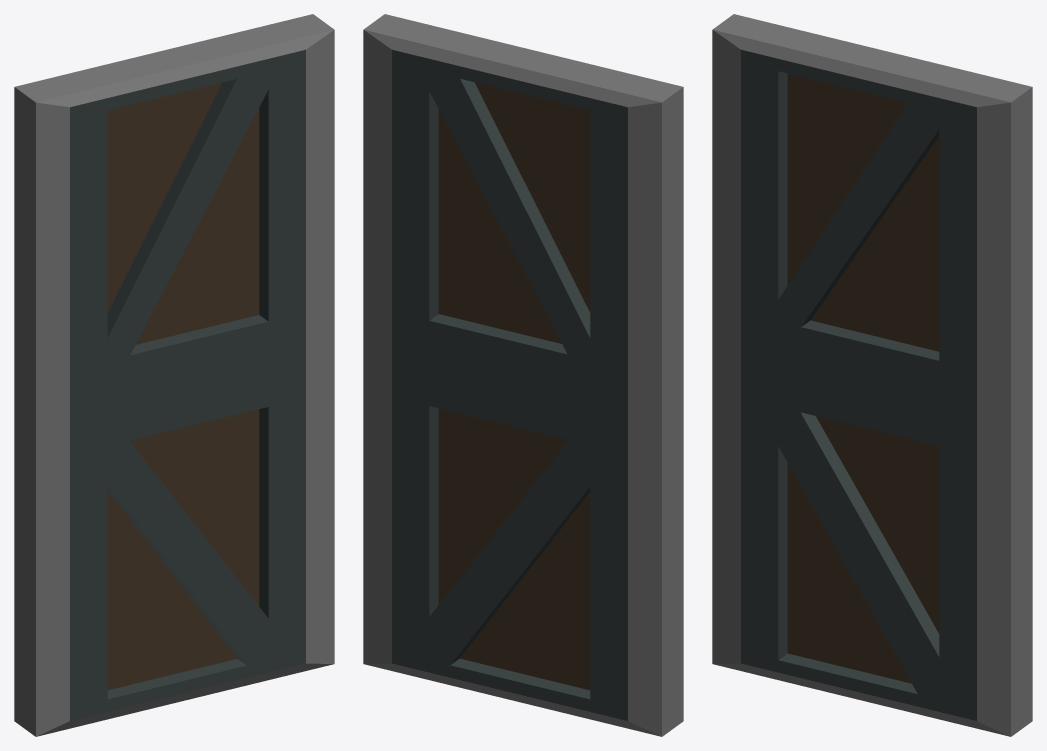
File: DoubleDoor.fbx
3 renders of one model, left to right at view 1: azimuth 30°, elevation 25°; view 2: azimuth 150°, elevation 25°; view 3: azimuth 330°, elevation 25°, orthographic.
Visible parts, largest first — view 1: Double Door; view 2: Double Door; view 3: Double Door.
Part boxes in pixels (left/top/right/bottom): Double Door: left=14, top=14, right=334, bottom=736; Double Door: left=363, top=14, right=683, bottom=736; Double Door: left=712, top=14, right=1032, bottom=736.
Bounding box in the file's own units: 80.56 × 164 × 12.64.
